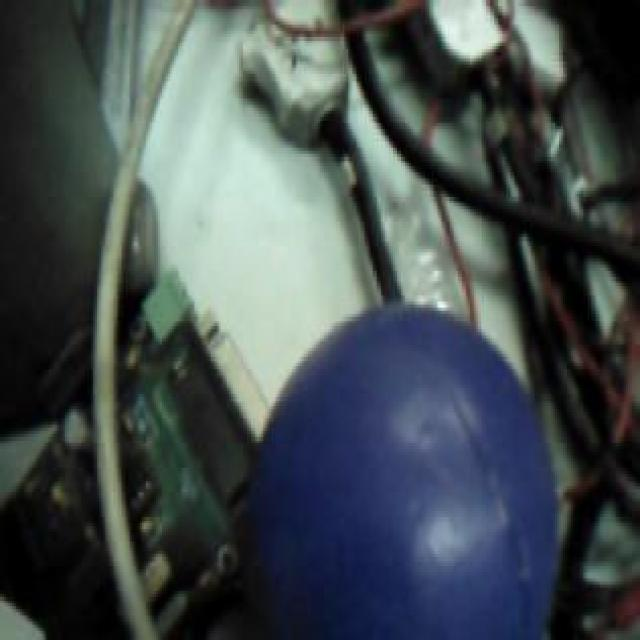BallPurple: (251, 303, 559, 640)
